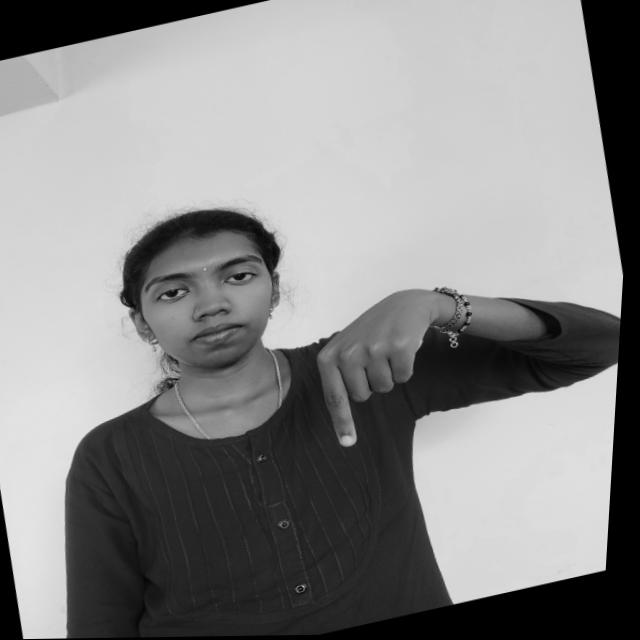Now: (294, 274, 477, 461)
